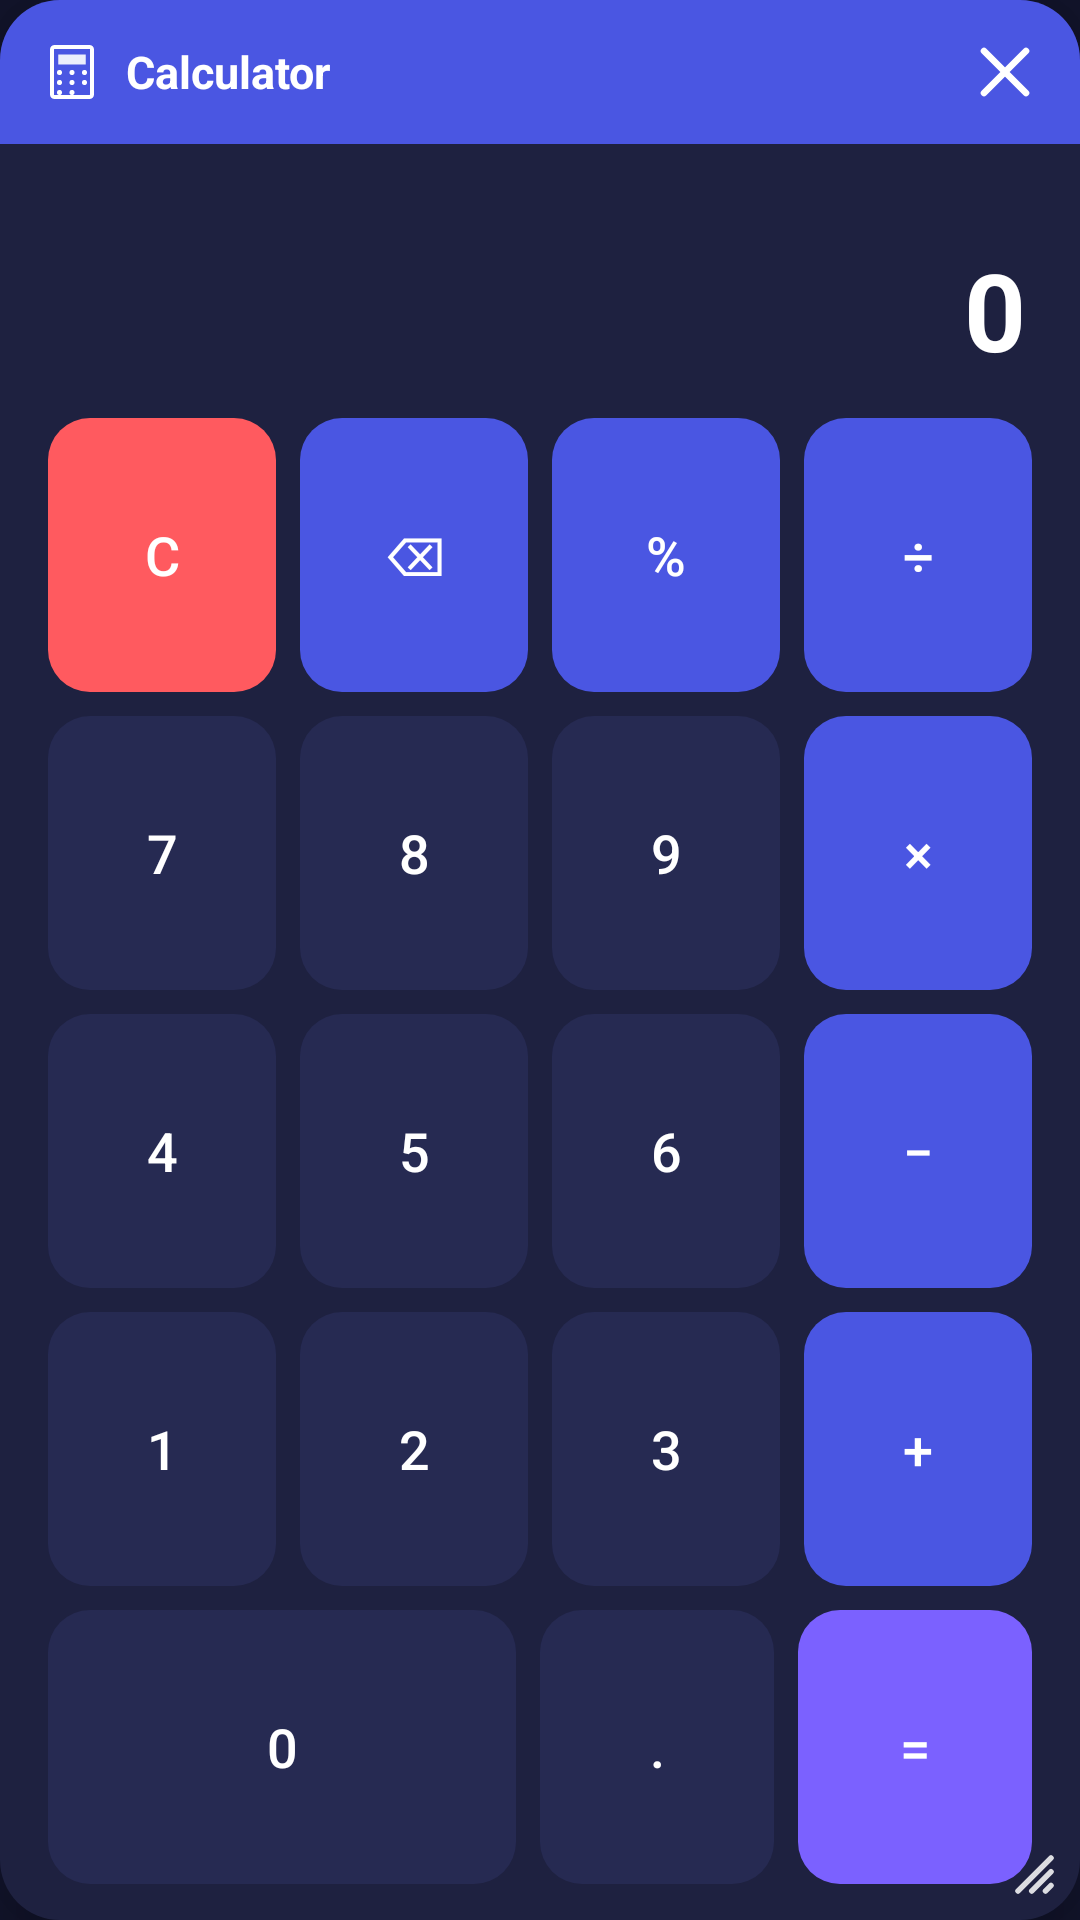

Point at icon controls on the screen. Image size 1080 × 1920, points as point (x, y).
Close: point (1005, 72)
